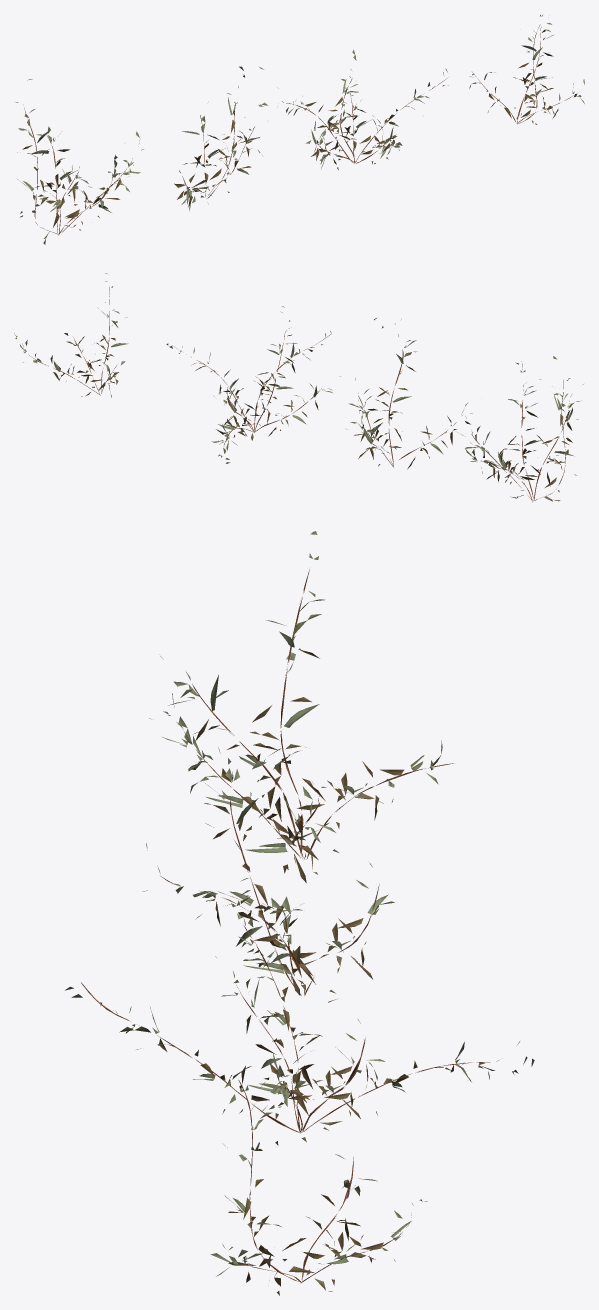
Rendered from shrub_02.gltf.
The picture shows the model from 3 angles, top to bottom: view 1: azimuth 30°, elevation 25°; view 2: azimuth 150°, elevation 25°; view 3: azimuth 270°, elevation 25°; orthographic projection. The views are drawn at different scales.
Visible parts, largest first — view 1: shrub_02_a, shrub_02_c, shrub_02_b, shrub_02_d; view 2: shrub_02_c, shrub_02_a, shrub_02_b, shrub_02_d; view 3: shrub_02_a, shrub_02_c, shrub_02_b, shrub_02_d.
Boxes of the visible parts, x1,y1,x2,y2 form: shrub_02_a: (15, 79, 143, 244); shrub_02_c: (258, 50, 448, 169); shrub_02_b: (174, 66, 263, 210); shrub_02_d: (469, 14, 584, 124); shrub_02_c: (166, 306, 340, 463); shrub_02_a: (465, 356, 583, 502); shrub_02_b: (345, 318, 472, 469); shrub_02_d: (14, 273, 128, 397); shrub_02_a: (149, 531, 453, 882); shrub_02_c: (65, 878, 534, 1145); shrub_02_b: (142, 747, 394, 1002); shrub_02_d: (210, 1080, 427, 1295).
Size of the model in its own units: 5.96 by 1.62 by 2.26.
Materials: 1 (1 with a texture image).
